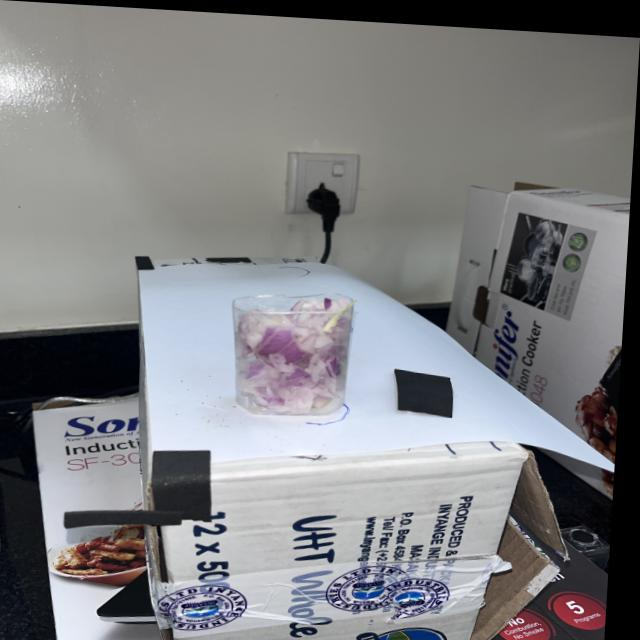sliced_onions: (240, 292, 353, 414)
